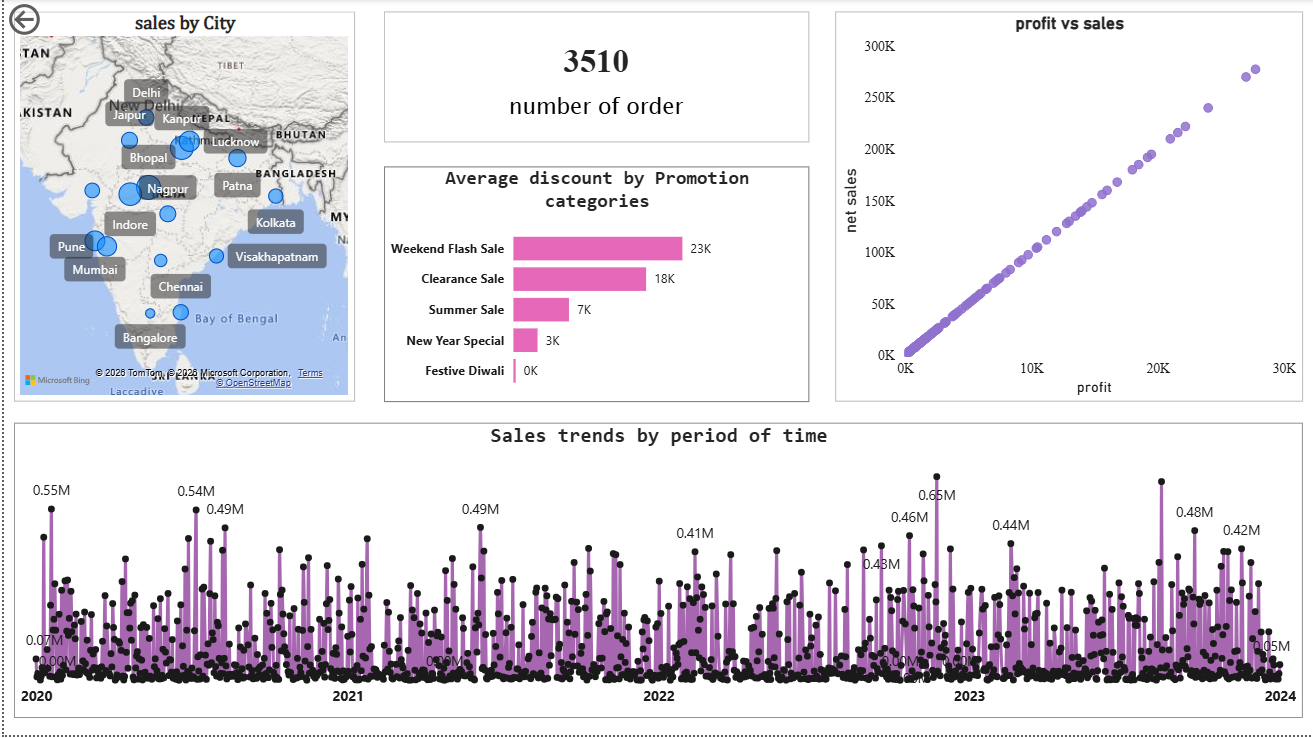

The dashboard page shown, as its layout file describes it:
{"tool":"powerbi","page":{"name":"overveiw","canvas":[1280,720],"ordinal":0},"visuals":[{"type":"lineChart","title":"Sales trends by period of time","fields":{"Y":["Sum(Fact table.net sales  )"],"Category":["Fact table.Date (dd/mm/yyyy)"]},"box":[9.8,414.5,1260.7,288.6],"z":0},{"type":"scatterChart","title":"profit vs sales  ","fields":{"X":["Fact table.profit"],"Y":["Fact table.net sales  "]},"box":[813.2,12.2,457.3,381.5],"z":1000},{"type":"barChart","title":"Average discount by Promotion categories","fields":{"Y":["Avg(Fact table.discount values)"],"Category":["Dim Promotion.Promotion Name"]},"box":[371.9,163.3,415.8,230.5],"z":2000},{"type":"map","title":" sales by City","fields":{"Category":["Dim Customers.City"],"Size":["Sum(Fact table.net sales  )"]},"box":[9.6,12.3,333.4,381.5],"z":3000},{"type":"card","fields":{"Values":["Count(Fact table.order id)"]},"box":[371.9,12.3,415.8,127.6],"z":4000},{"type":"actionButton","box":[0,0,100,40],"z":5000}]}

Visuals, with their boxes in screenshot pixels (x1, y1, x2, y2), scaled from the page's 1280x720 canvas onto the 1313x738 screenshot:
"Sales trends by period of time" lineChart: [10, 425, 1303, 721]
"profit vs sales  " scatterChart: [834, 13, 1303, 404]
"Average discount by Promotion categories" barChart: [381, 167, 808, 404]
" sales by City" map: [10, 13, 352, 404]
card - Count(Fact table.order id): [381, 13, 808, 143]
actionButton: [0, 0, 103, 41]
